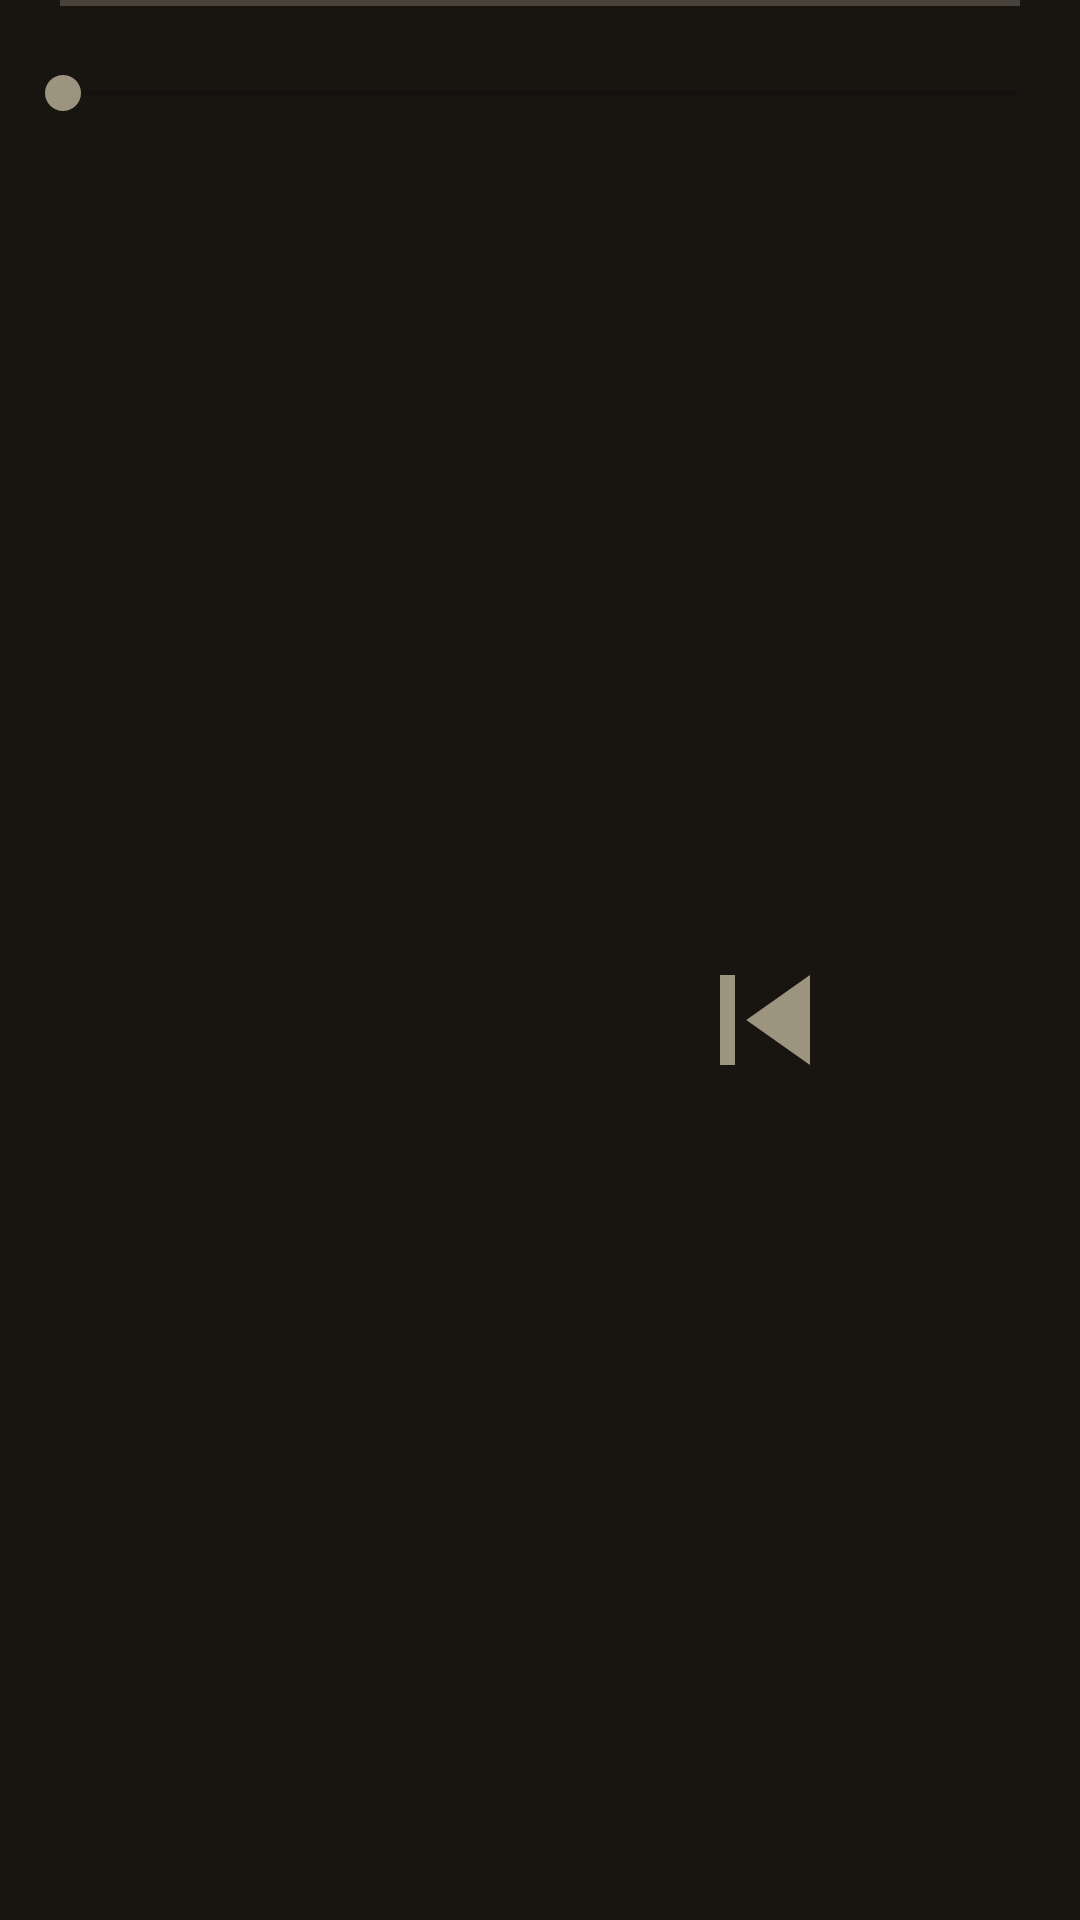

Icons on this 1080w x 1920h Android screen, each with the point to tap as (x=x, y=y):
skip previous: (x=765, y=1020)
